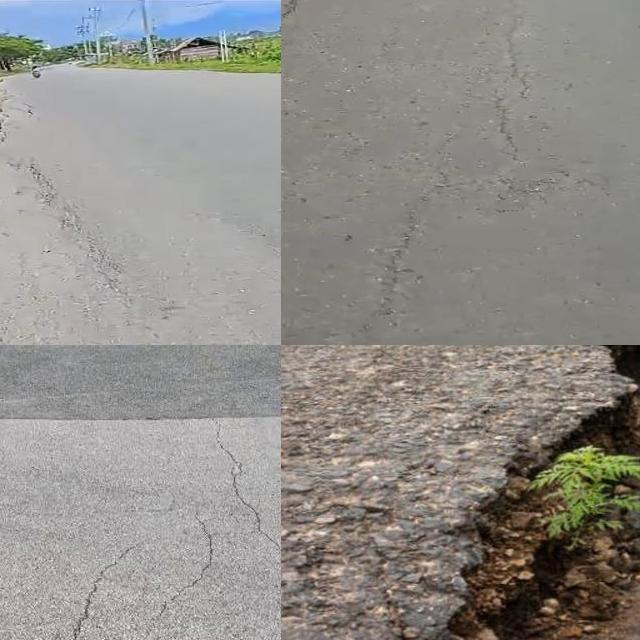Memanjang: (65, 528, 142, 640)
Pinggir: (358, 345, 640, 640)
Sambungan: (0, 345, 281, 419)
